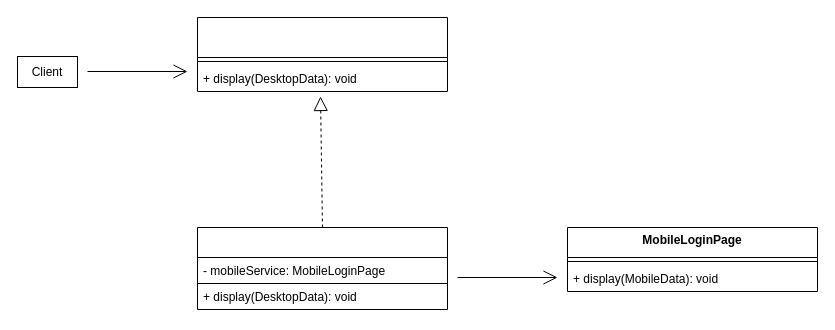
Some shapes in this 835 by 330 pixel diagram are drawn without their labels. The box of each missing label's shape, as (x1, y1, x2, y2) in pixels:
<<Interface >> LoginPage: (196, 16, 448, 92)
LoginPageAdaptor: (196, 226, 448, 310)
